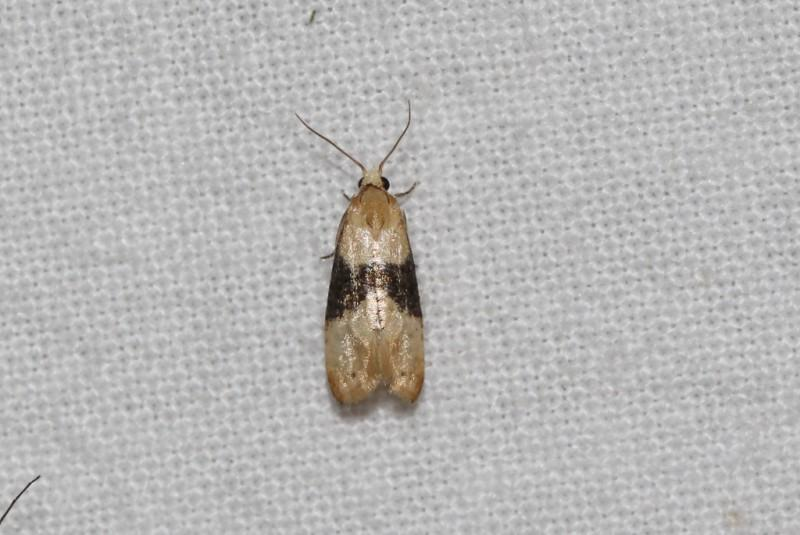Eupoecilia Ambiguella: (291, 97, 428, 410)
